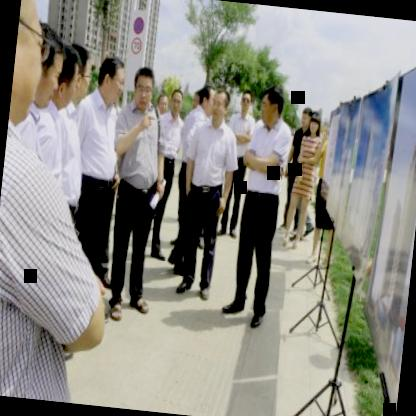head: (7, 0, 53, 132), (56, 36, 89, 112), (34, 30, 64, 104), (94, 53, 127, 107), (130, 62, 158, 112), (257, 83, 285, 126), (209, 86, 233, 130), (198, 81, 216, 121), (153, 88, 170, 122), (237, 86, 253, 118), (298, 100, 312, 134), (168, 84, 182, 117), (308, 110, 322, 138)
